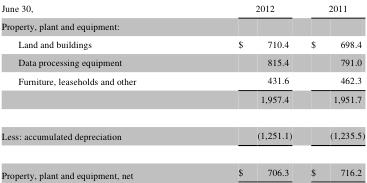table: (0, 0, 364, 180)
table column: (0, 0, 186, 180), (186, 0, 300, 180), (300, 0, 364, 180)
table column header: (0, 0, 364, 16)
table projected row header: (0, 16, 364, 34)
table row: (0, 116, 364, 153), (0, 89, 364, 116), (0, 153, 364, 180), (0, 70, 364, 89), (0, 16, 364, 34), (0, 34, 364, 52), (0, 52, 364, 70), (0, 0, 364, 16)
